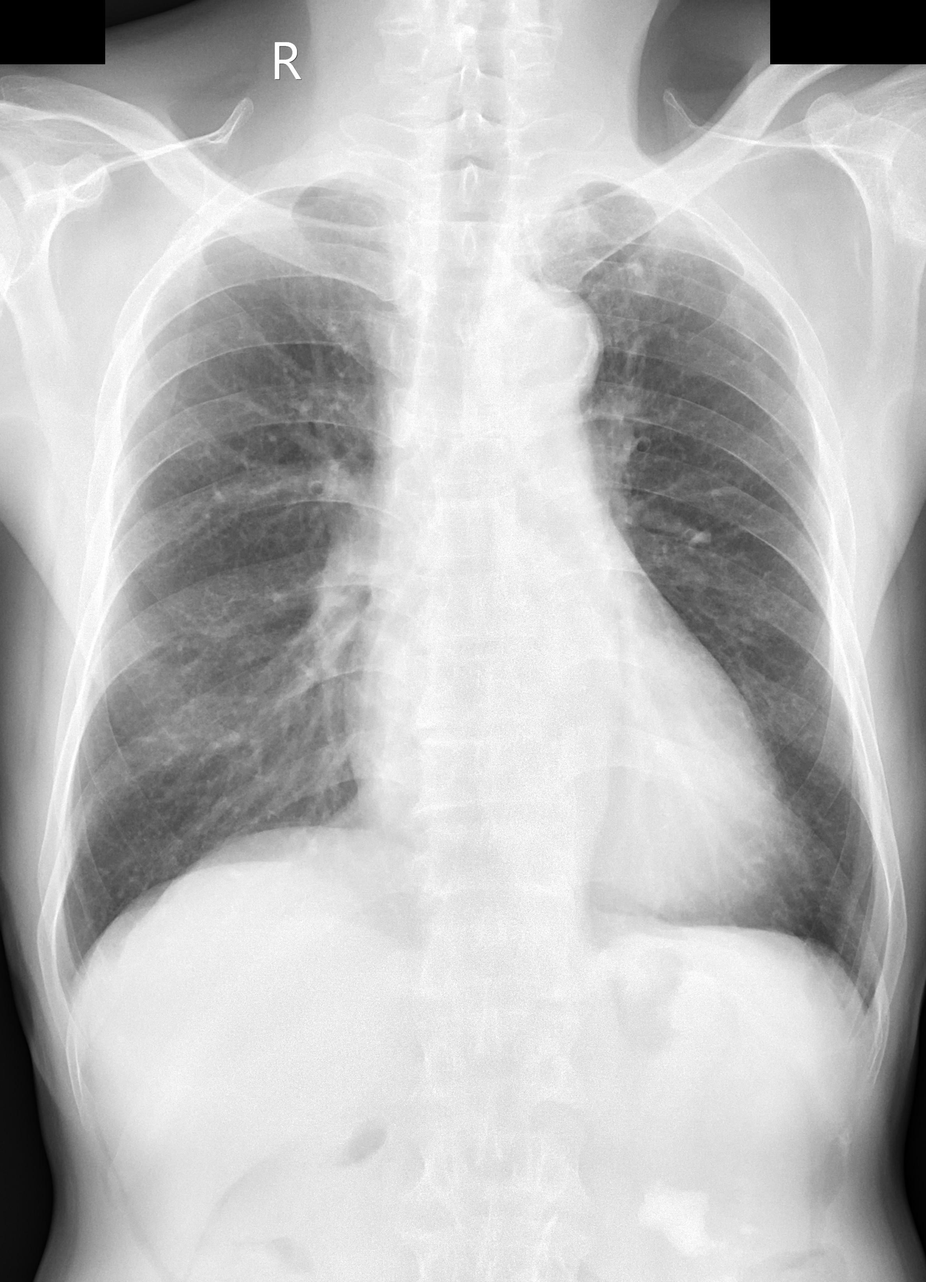Aortic enlargement: (472, 273, 607, 407)
Cardiomegaly: (335, 693, 808, 931)
Pleural thickening: (530, 166, 630, 217)
